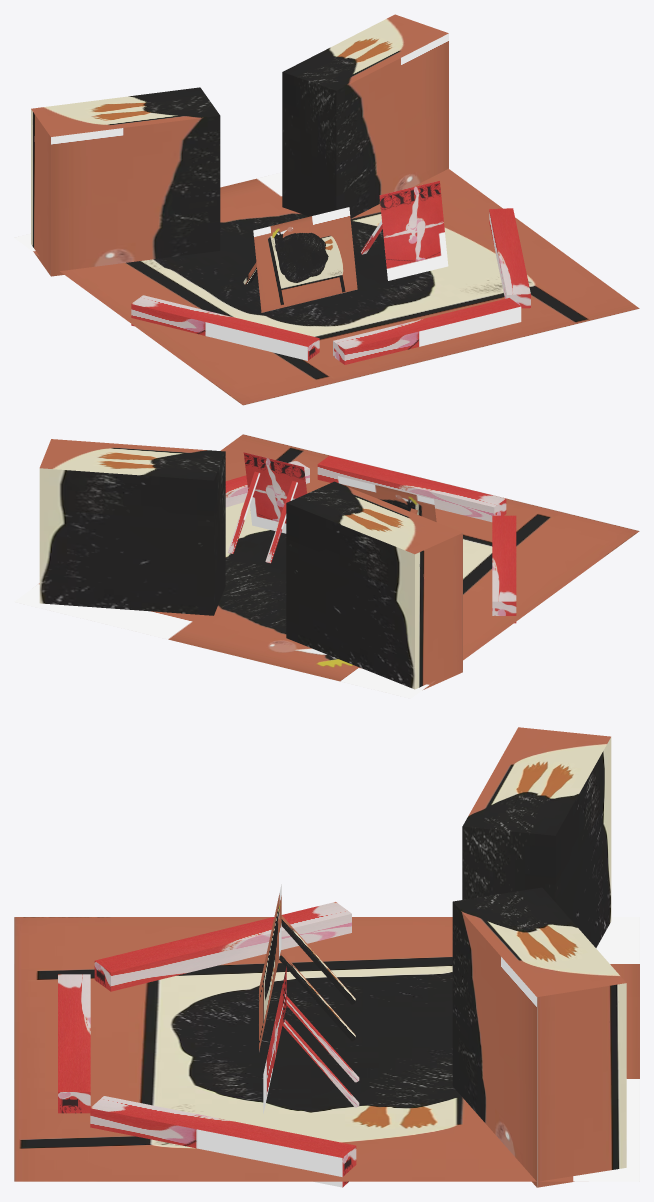
File: stage.glb
3 views of the same model, one above another, from view 1: azimuth 30°, elevation 25°; view 2: azimuth 150°, elevation 25°; view 3: azimuth 270°, elevation 25° (orthographic). The views are drawn at different scales.
Parts seen in each view (by area): view 1: Plane.006; view 2: Plane.006; view 3: Plane.006.
Boxes of the visible parts, x1,y1,x2,y2 form: Plane.006: [14, 14, 639, 405]; Plane.006: [14, 434, 639, 698]; Plane.006: [14, 727, 639, 1187].
Size of the model in its own units: 22.96 by 7.74 by 22.49.
Materials: 2 (2 with a texture image).
